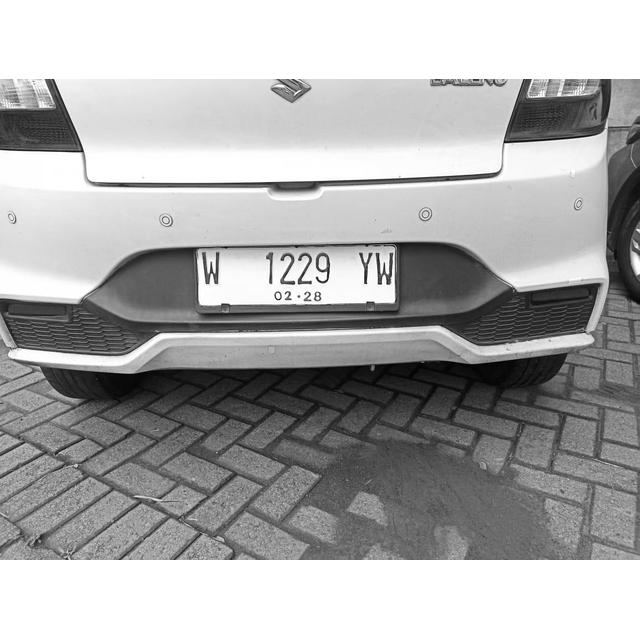license: (199, 248, 393, 301)
